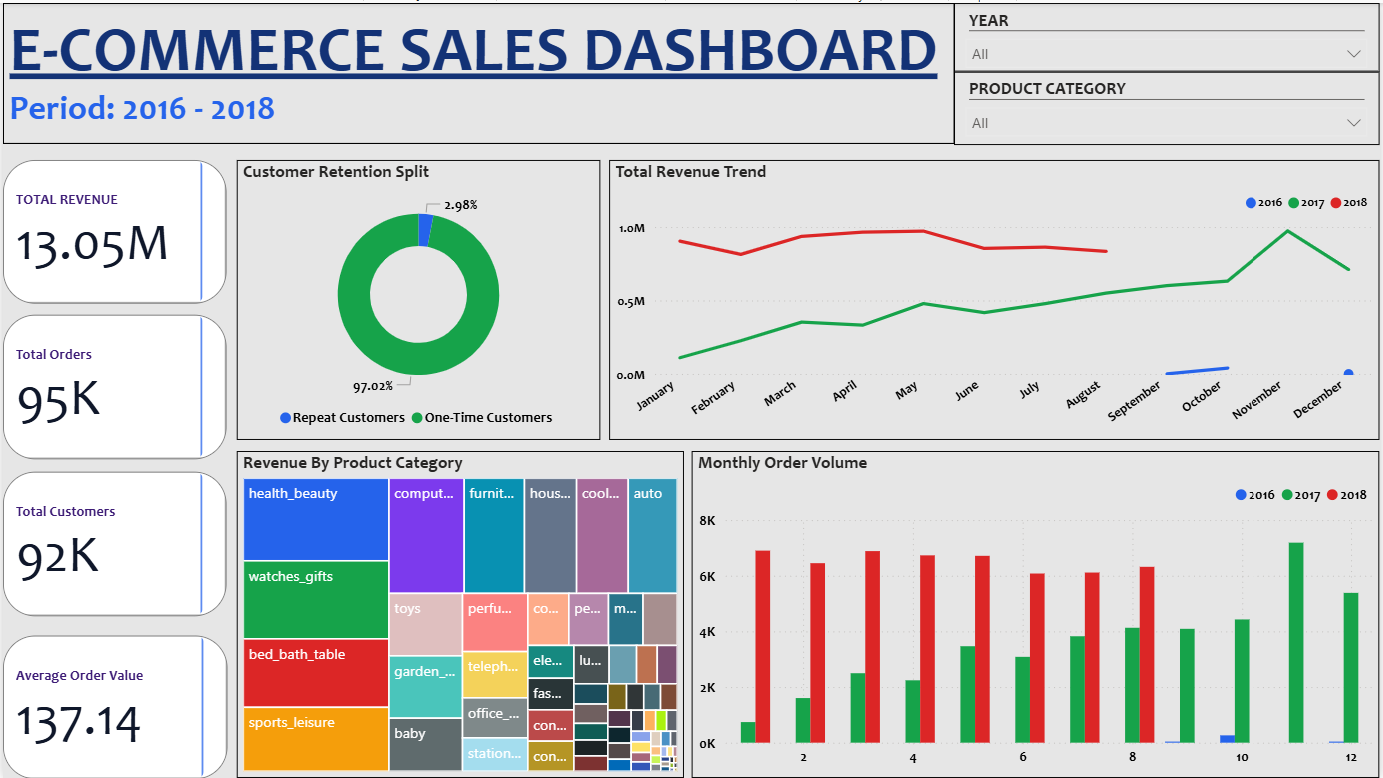

The page's visual inventory and layout, read from the dashboard file:
{"tool":"powerbi","page":{"name":"Executive Overview","canvas":[1280,720],"ordinal":0},"visuals":[{"type":"cardVisual","fields":{"Data":["_measures.Total Revenue:"]},"box":[3.2,145.8,207.6,129.5],"z":0},{"type":"lineChart","title":"Total Revenue Trend","fields":{"Category":["dim_date.month_name"],"Series":["dim_date.year"],"Y":["_measures.Total Revenue:"]},"box":[574.8,155.4,696.1,250.1],"z":1000},{"type":"cardVisual","fields":{"Data":["_measures.Total Orders:"]},"box":[3.2,285.1,205.3,129.7],"z":2000},{"type":"treemap","title":"Revenue By Product Category","fields":{"Group":["dim_product.product_category_name_englist"],"Values":["_measures.Total Revenue:"]},"box":[228.9,415.1,397,295.9],"z":3000},{"type":"cardVisual","fields":{"Data":["_measures.Total Customers:"]},"box":[3.2,426.2,205.3,129.7],"z":4000},{"type":"clusteredColumnChart","title":"Monthly Order Volume","fields":{"Category":["dim_date.month"],"Y":["_measures.Total Orders:"],"Series":["dim_date.year"]},"box":[654.6,415.1,616.3,295.9],"z":5000},{"type":"cardVisual","fields":{"Data":["_measures.Average Order Value:"]},"box":[3.2,572.9,205.3,129.7],"z":6000},{"type":"donutChart","title":"Customer Retention Split","fields":{"Y":["_measures.Repeat Customers","_measures.One-Time Customers:"]},"box":[221.4,155.4,342.7,250.1],"z":7000},{"type":"slicer","title":"Year","fields":{"Values":["dim_date.year"]},"box":[894.1,8.5,376.8,57.1],"z":8000},{"type":"slicer","title":"Product Category","fields":{"Values":["dim_product.product_category_name_englist"]},"box":[894.1,65.5,376.8,61.1],"z":9000}]}

Visuals, with their boxes in screenshot pixels (x1, y1, x2, y2), scaled from the page's 1280x720 canvas onto the 1383x778 screenshot:
cardVisual - _measures.Total Revenue:: 3, 158, 228, 297
"Total Revenue Trend" lineChart: 621, 168, 1373, 438
cardVisual - _measures.Total Orders:: 3, 308, 225, 448
"Revenue By Product Category" treemap: 247, 449, 676, 768
cardVisual - _measures.Total Customers:: 3, 461, 225, 601
"Monthly Order Volume" clusteredColumnChart: 707, 449, 1373, 768
cardVisual - _measures.Average Order Value:: 3, 619, 225, 759
"Customer Retention Split" donutChart: 239, 168, 609, 438
"Year" slicer: 966, 9, 1373, 71
"Product Category" slicer: 966, 71, 1373, 137
